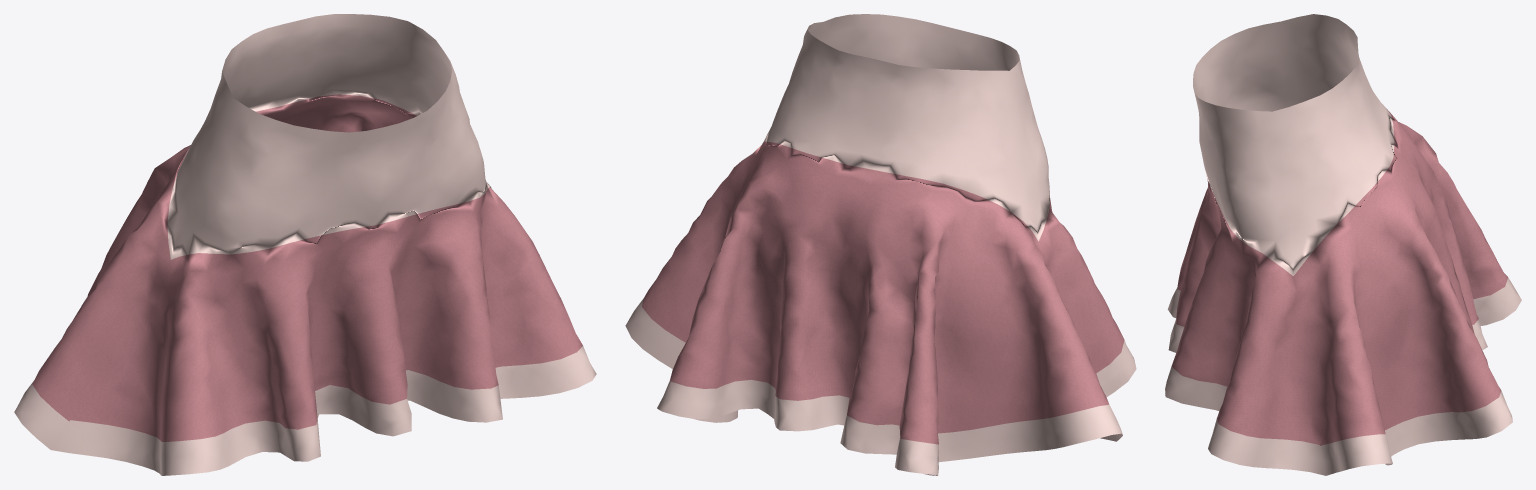
The picture shows the model from 3 angles, left to right: view 1: azimuth 30°, elevation 25°; view 2: azimuth 150°, elevation 25°; view 3: azimuth 270°, elevation 25°; orthographic projection. The views are drawn at different scales.
Visible parts, largest first — view 1: BodyBottom; view 2: BodyBottom; view 3: BodyBottom.
Part boxes in pixels (x1,y1,x2,y2): BodyBottom: [14, 14, 596, 475]; BodyBottom: [625, 14, 1136, 475]; BodyBottom: [1165, 14, 1521, 475].
Size of the model in its own units: 0.4583 by 0.3239 by 0.3014.
6 materials, 6 textured.
